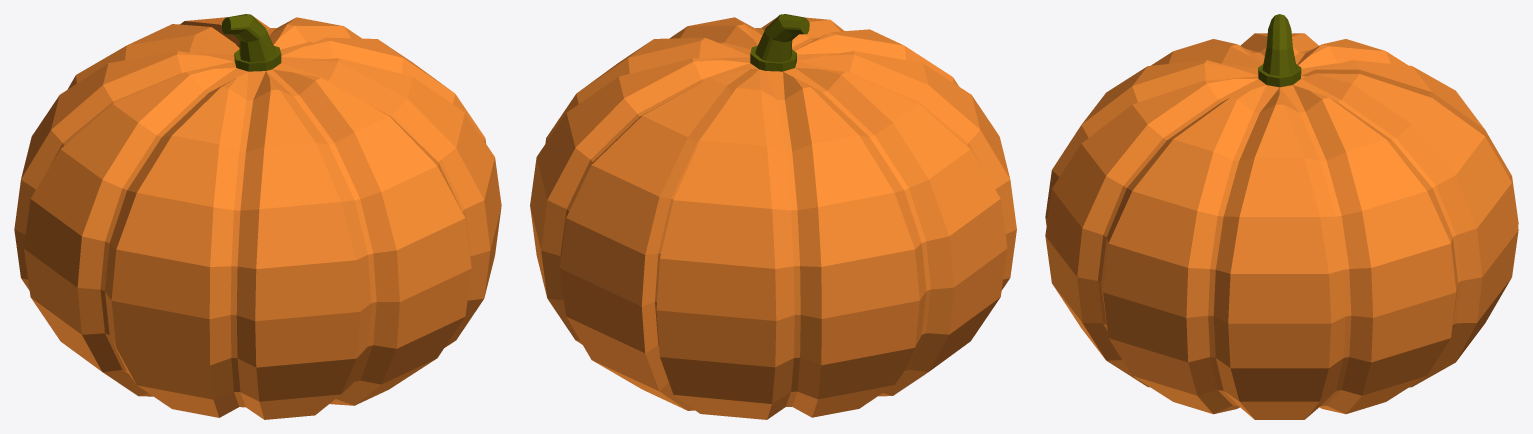
The model's file is pumpkin.fbx.
3 views of the same model, side by side, from view 1: azimuth 30°, elevation 25°; view 2: azimuth 150°, elevation 25°; view 3: azimuth 270°, elevation 25° (orthographic). The views are drawn at different scales.
Visible parts, largest first — view 1: pumpkin; view 2: pumpkin; view 3: pumpkin.
Part boxes in pixels (x1=…): pumpkin: x1=14, y1=14, x2=501, y2=419; pumpkin: x1=530, y1=14, x2=1016, y2=419; pumpkin: x1=1045, y1=14, x2=1518, y2=419.
Size of the model in its own units: 189 by 163 by 195.
